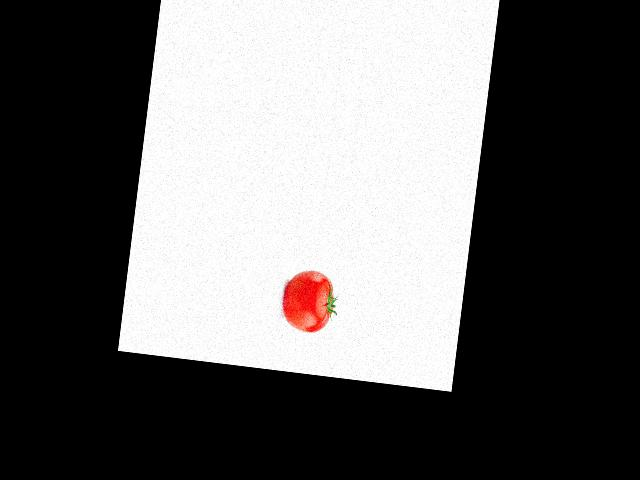tomato: (281, 267, 336, 335)
